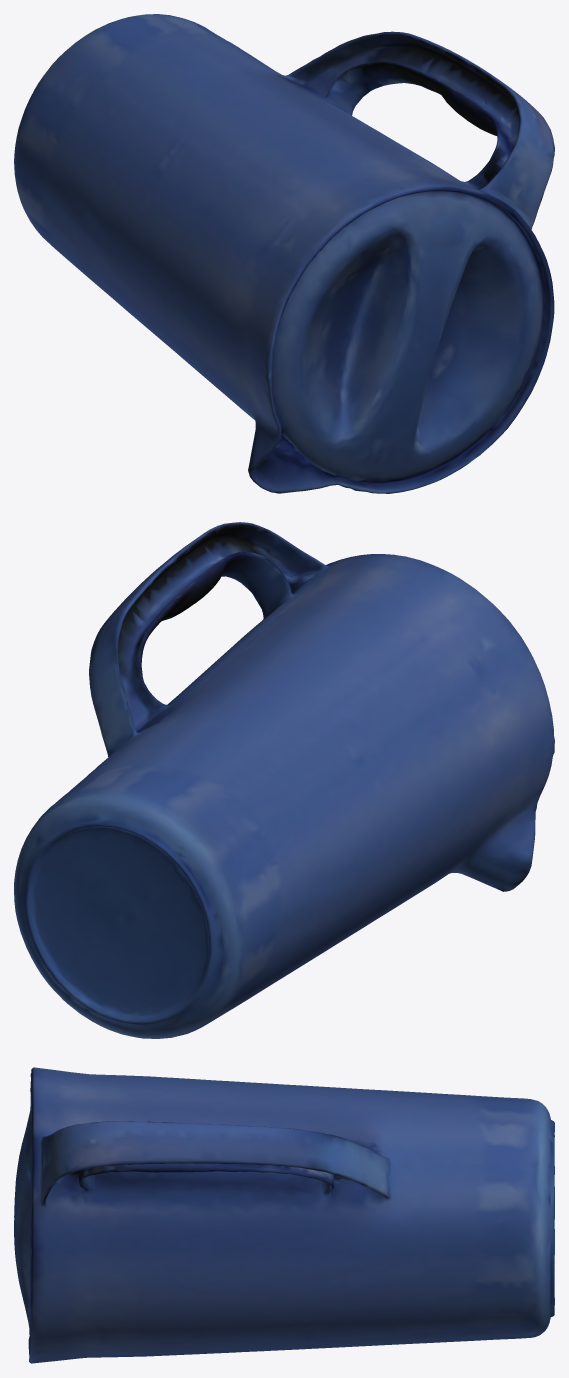
3 renders of one model, top to bottom at view 1: azimuth 30°, elevation 25°; view 2: azimuth 150°, elevation 25°; view 3: azimuth 270°, elevation 25°, orthographic. The views are drawn at different scales.
Bounding box in the file's own units: 0.1491 × 0.1448 × 0.2424.
